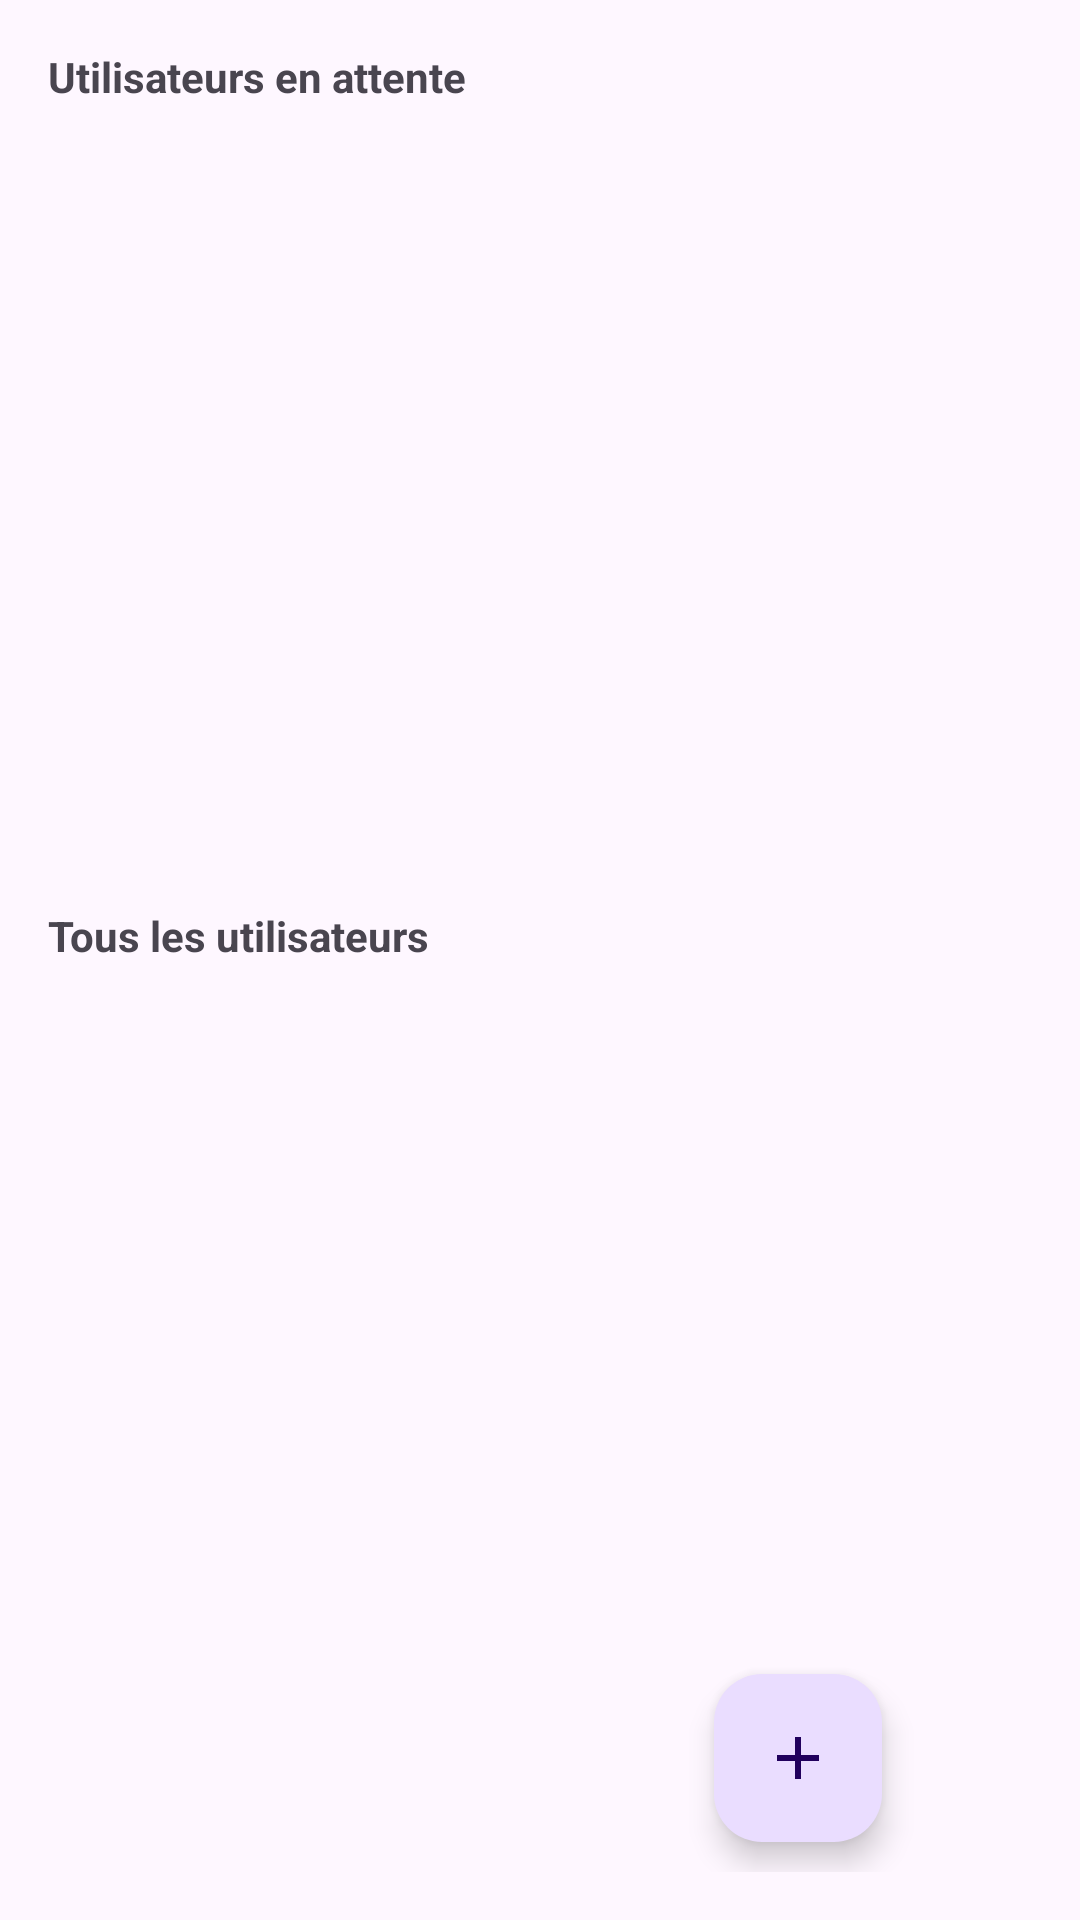

Icon click points for this 1080px x 1920px phone screenshot, format point (x, y):
add: point (798, 1758)
